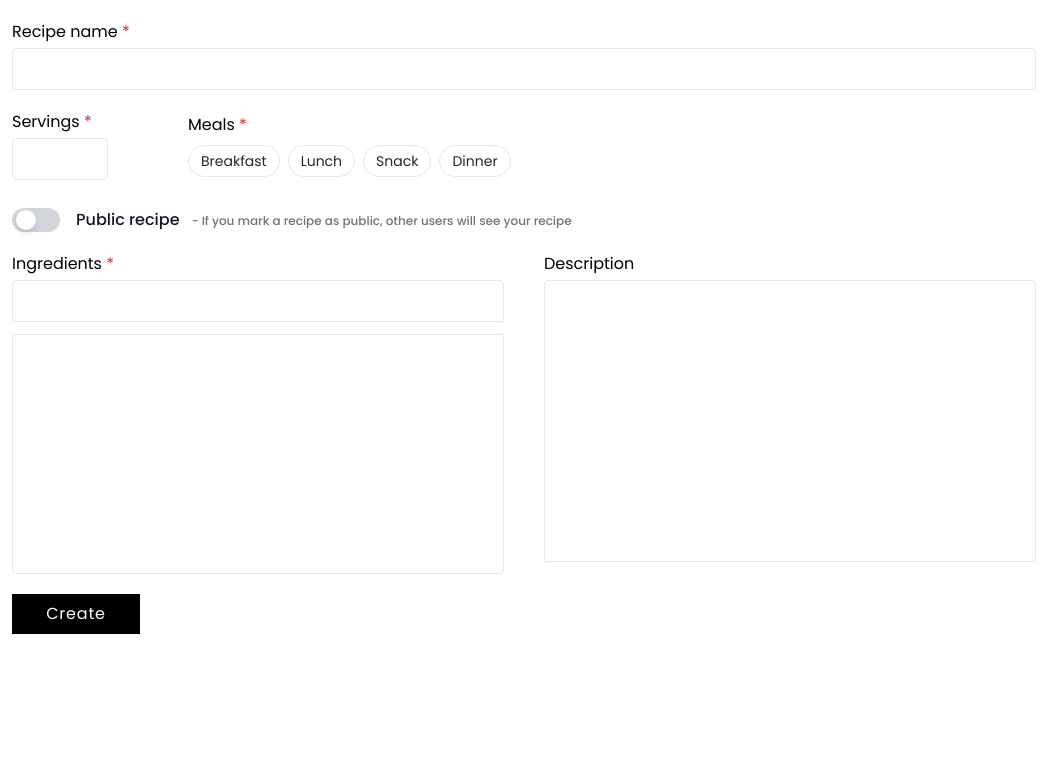
Test case: Create Recipe Component - User Flow Tests › Avoid duplicate ingredients
Type "Flour" into the field labelled "Ingredients *".
click(258, 301); type("Flour")  # box [12,280,504,322]
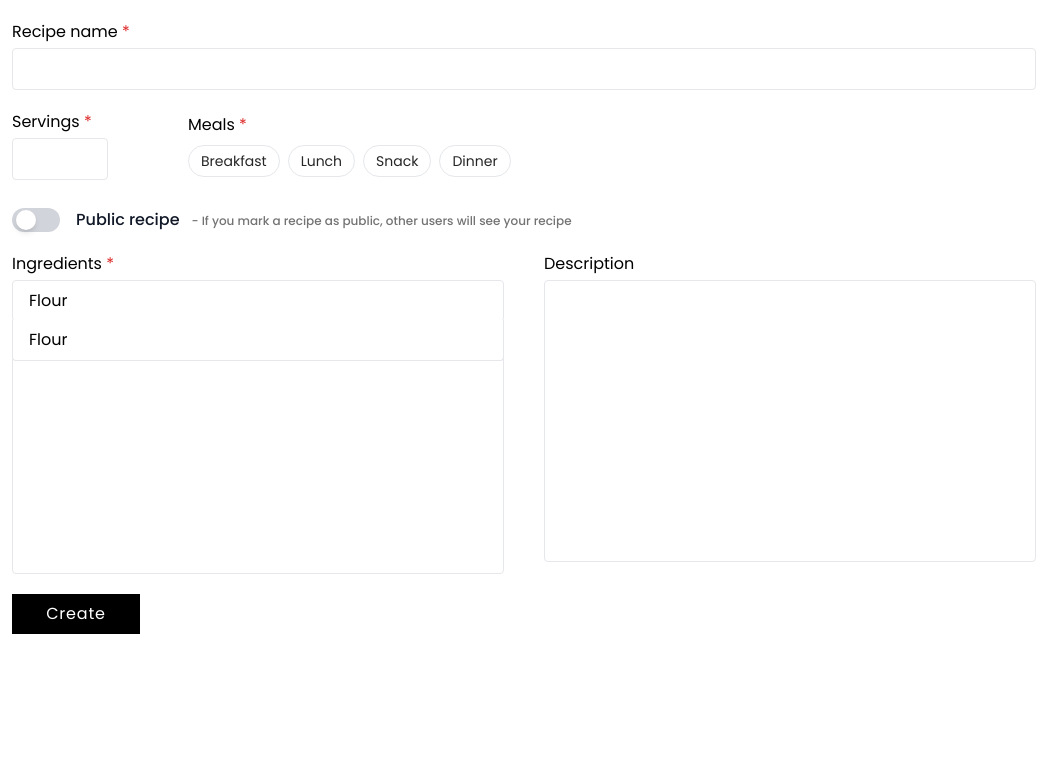
Click the list item "Flour".
click(48, 340)  # box [29,328,68,351]
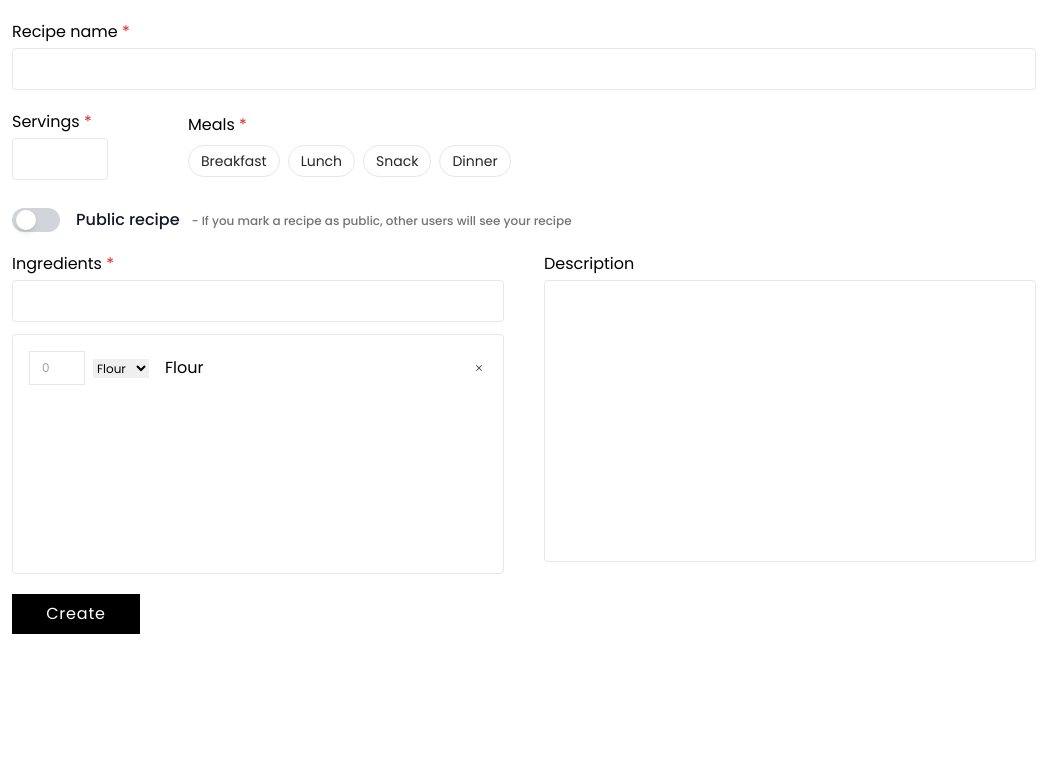
Type "Flour" into the field labelled "Ingredients *".
click(258, 301); type("Flour")  # box [12,280,504,322]
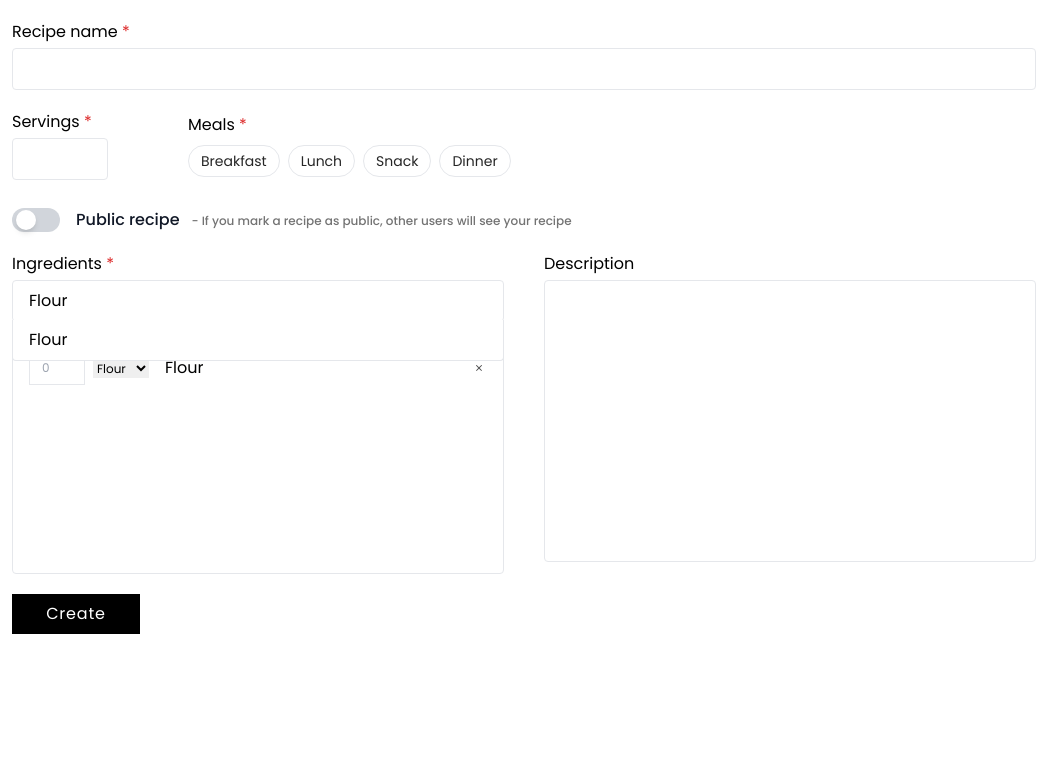
Click the list item "Flour".
click(48, 340)  # box [29,328,68,351]
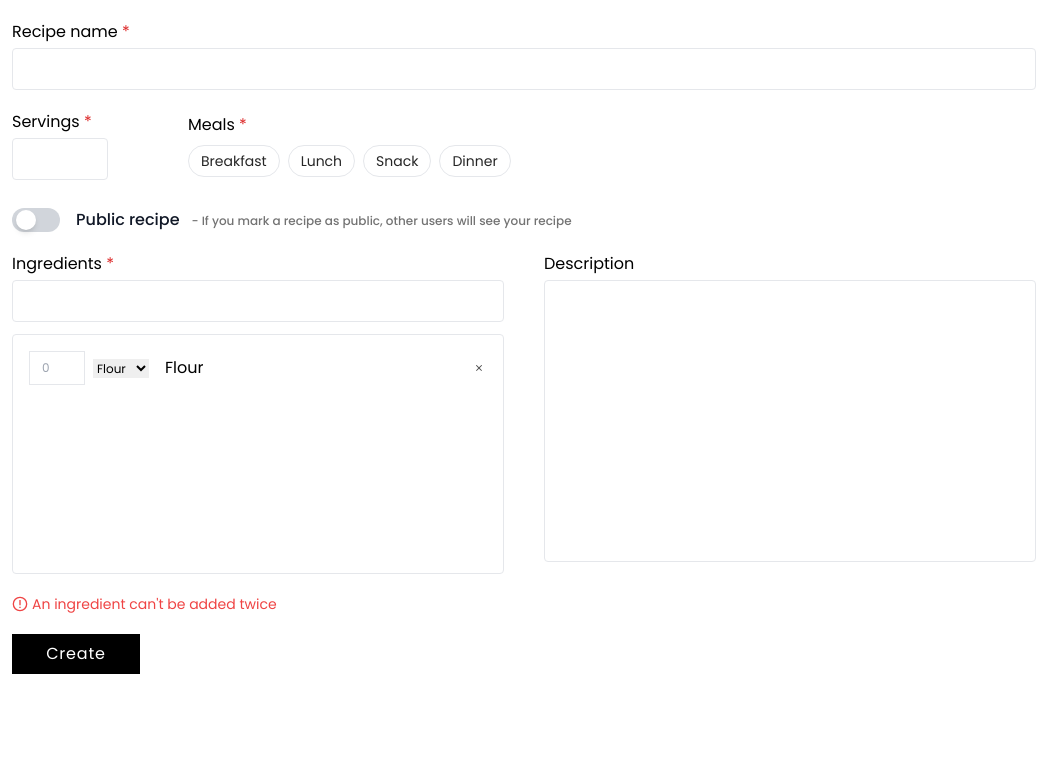
Expected: the text "An ingredient can't be added twice" is shown, [12,594,277,614]
